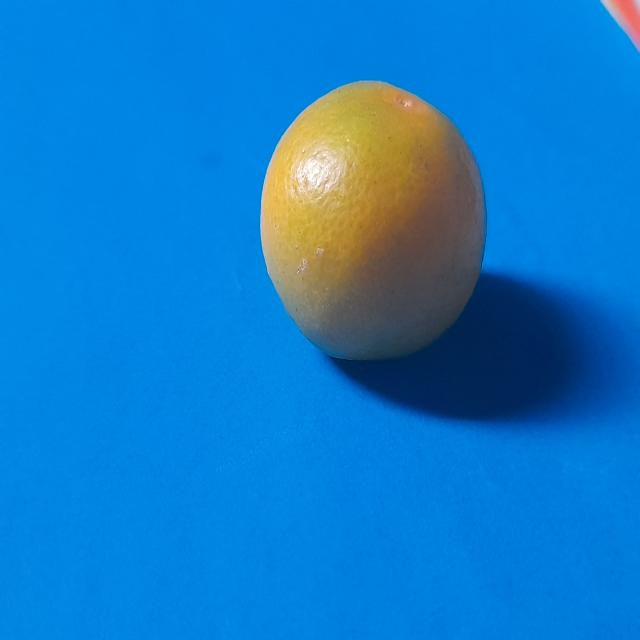greening: (254, 74, 489, 369)
